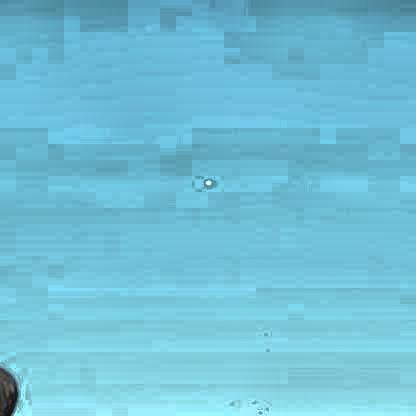golfball: (202, 176, 212, 186)
